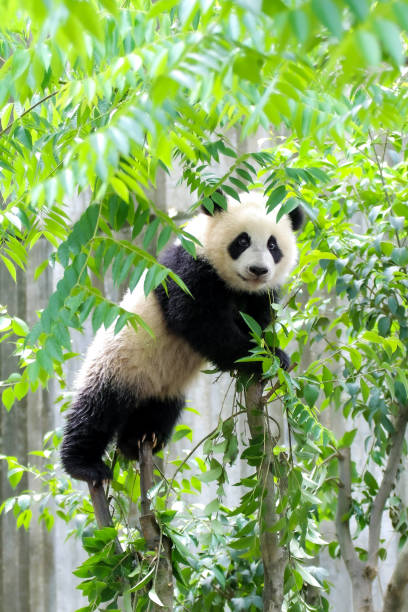panda: (197, 178, 326, 311)
